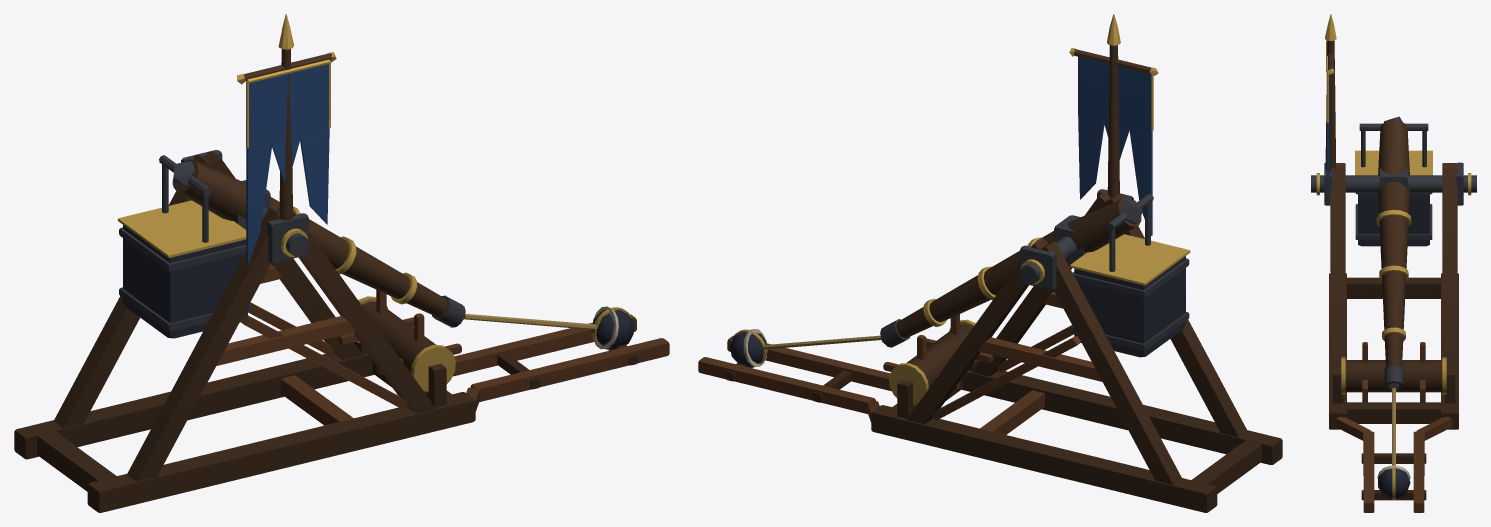
The model's file is trebuchet.glb.
3 renders of one model, left to right at view 1: azimuth 30°, elevation 25°; view 2: azimuth 150°, elevation 25°; view 3: azimuth 270°, elevation 25°, orthographic. The views are drawn at different scales.
Parts seen in each view (by area): view 1: frame, weight, arm, flag1, flag2, windlass, stone, sling; view 2: frame, weight, arm, flag1, flag2, windlass, stone, sling; view 3: frame, arm, weight, windlass, stone, sling, flag1, flag2.
Boxes of the visible parts, x1,y1,x2,y2 form: frame: (14,14,669,512); weight: (117,155,251,338); arm: (172,159,465,327); flag1: (246,59,330,149); flag2: (246,130,329,265); windlass: (338,289,461,391); stone: (591,307,633,349); sling: (464,306,618,349); frame: (698,14,1282,512); weight: (1069,194,1190,357); arm: (880,197,1142,347); flag1: (1078,56,1153,132); flag2: (1078,115,1152,235); windlass: (883,314,993,404); stone: (730,329,766,367); sling: (743,329,881,366); frame: (1311,14,1476,512); arm: (1376,116,1411,391); weight: (1355,123,1432,246); windlass: (1341,342,1446,402); stone: (1378,467,1410,499); sling: (1377,387,1410,479); flag1: (1326,40,1329,124); flag2: (1327,124,1329,195).
Bounding box in the file's own units: 14.5 × 10.65 × 4.6.
